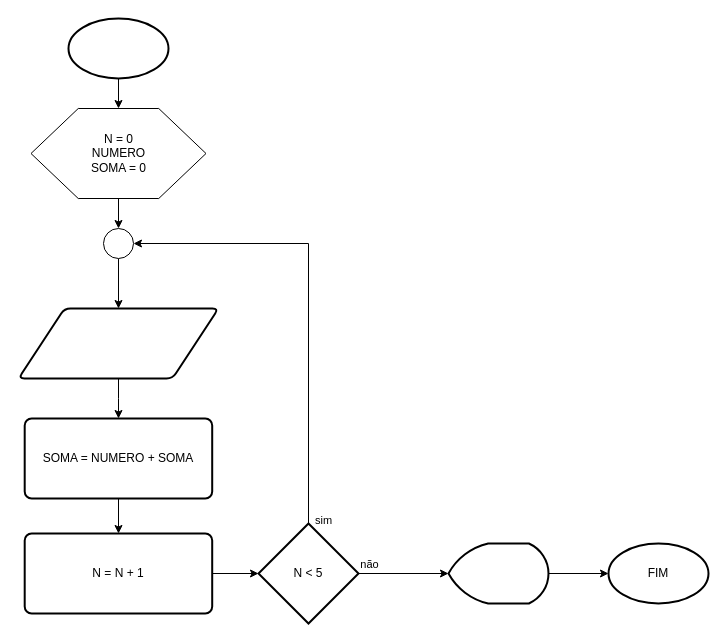
Some shapes in this 726 by 641 pixel diagram are drawn without their labels. Here are the shapes that lost their labels. From the top down, the centre of each, then its label:
(118,48): INÍCIO
(118,343): Ler NUMERO
(498,573): SOMA
